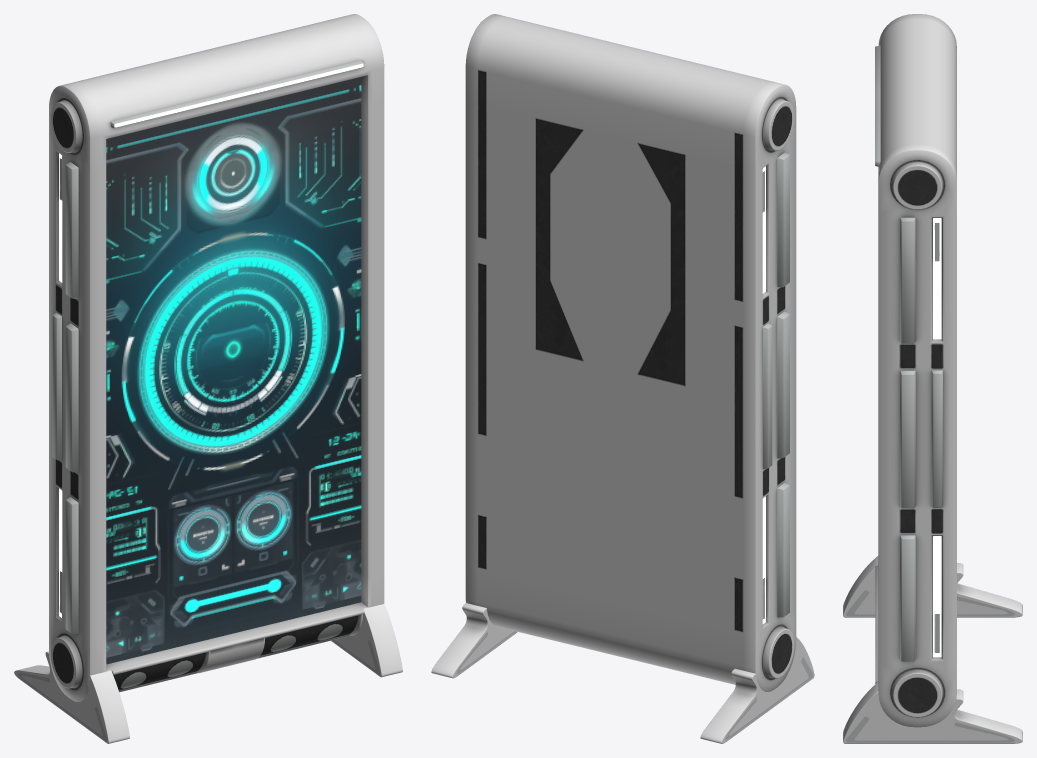
File: LightBox02_1.FBX
3 views of the same model, side by side, from view 1: azimuth 30°, elevation 25°; view 2: azimuth 150°, elevation 25°; view 3: azimuth 270°, elevation 25° (orthographic). The views are drawn at different scales.
Parts seen in each view (by area): view 1: LightBox02_1; view 2: LightBox02_1; view 3: LightBox02_1.
Boxes of the visible parts, <box> form: LightBox02_1: <box>14,14,402,743</box>; LightBox02_1: <box>431,14,814,743</box>; LightBox02_1: <box>843,14,1022,743</box>.
Size of what is drawn, in the model's own units: 0.9722 by 1.9 by 0.5208.
